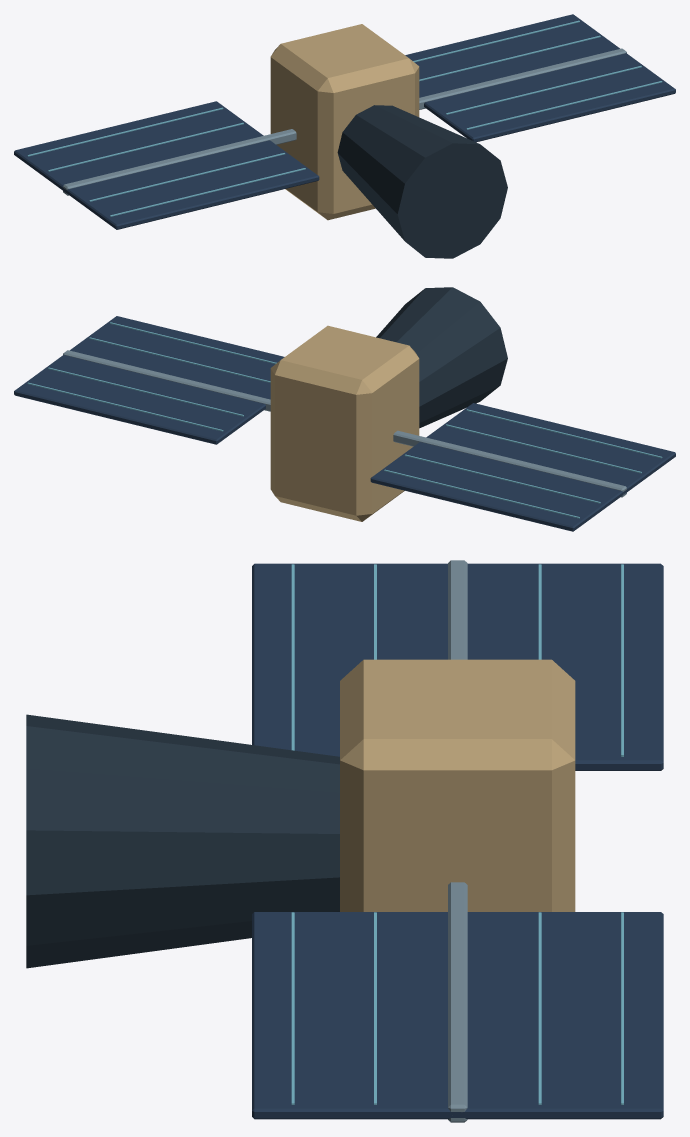
The model's file is space-satellite-science.lod0.glb.
3 renders of one model, top to bottom at view 1: azimuth 30°, elevation 25°; view 2: azimuth 150°, elevation 25°; view 3: azimuth 270°, elevation 25°, orthographic. The views are drawn at different scales.
Visible parts, largest first — view 1: space-satellite-science__body, space-satellite-science__solar_-1, space-satellite-science__solar_1; view 2: space-satellite-science__body, space-satellite-science__solar_-1, space-satellite-science__solar_1; view 3: space-satellite-science__body, space-satellite-science__solar_1, space-satellite-science__solar_-1.
Part boxes in pixels (x1,y1,x2,y2): space-satellite-science__body: [63, 24, 626, 258]; space-satellite-science__solar_-1: [14, 101, 319, 229]; space-satellite-science__solar_1: [405, 14, 675, 142]; space-satellite-science__body: [63, 287, 626, 521]; space-satellite-science__solar_-1: [370, 403, 675, 531]; space-satellite-science__solar_1: [14, 316, 284, 444]; space-satellite-science__body: [26, 560, 575, 1122]; space-satellite-science__solar_1: [252, 912, 663, 1119]; space-satellite-science__solar_-1: [252, 563, 663, 770].
Bounding box in the file's own units: 6.6 × 1.6 × 3.25.
